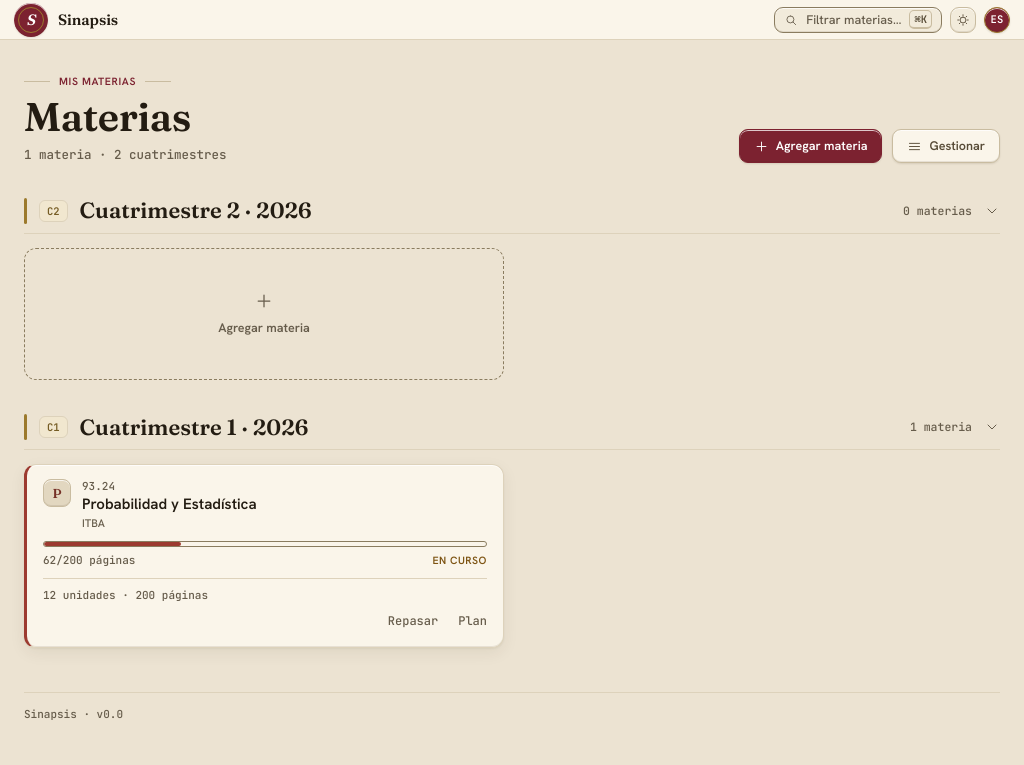
Scenario: <LandingPage/> · el borrador de gestión (N0-38) › salir con cambios pide confirmación y «Seguir editando» conserva el borrador
Expected: the element "Cuatrimestre 2 · 2026" is shown, [24,189,1000,380]
Click the button "Gestionar".
click(946, 146)  # box [892,129,1000,163]
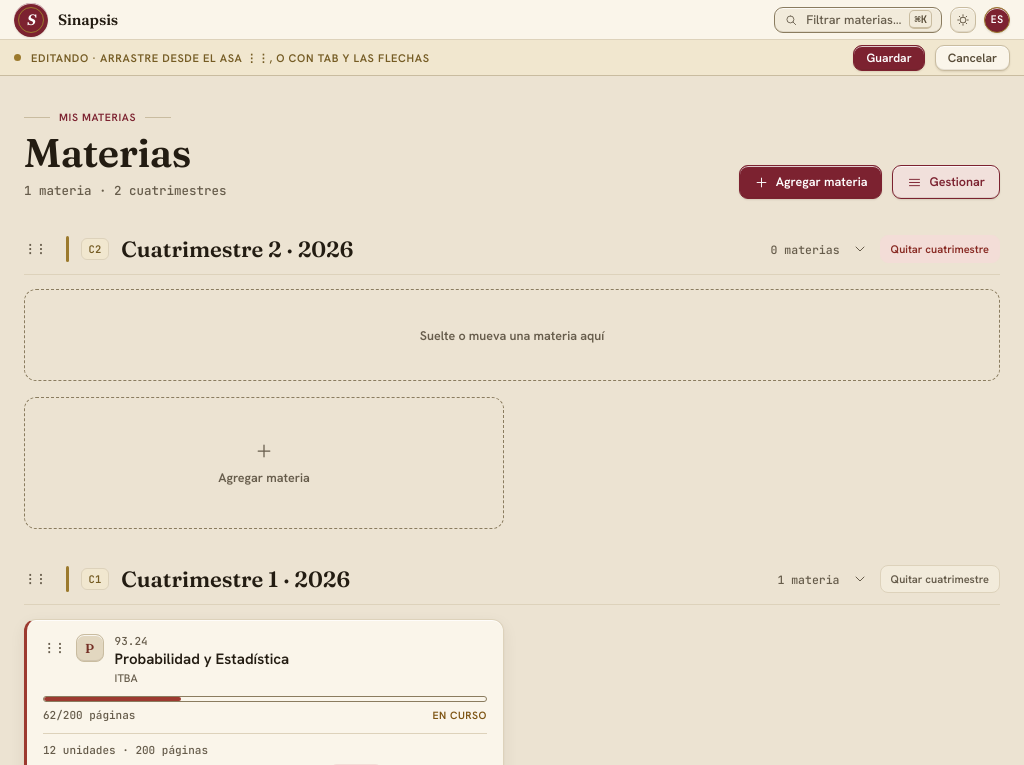
Click the 1st button "Quitar cuatrimestre".
click(940, 249)  # box [880,235,1000,263]
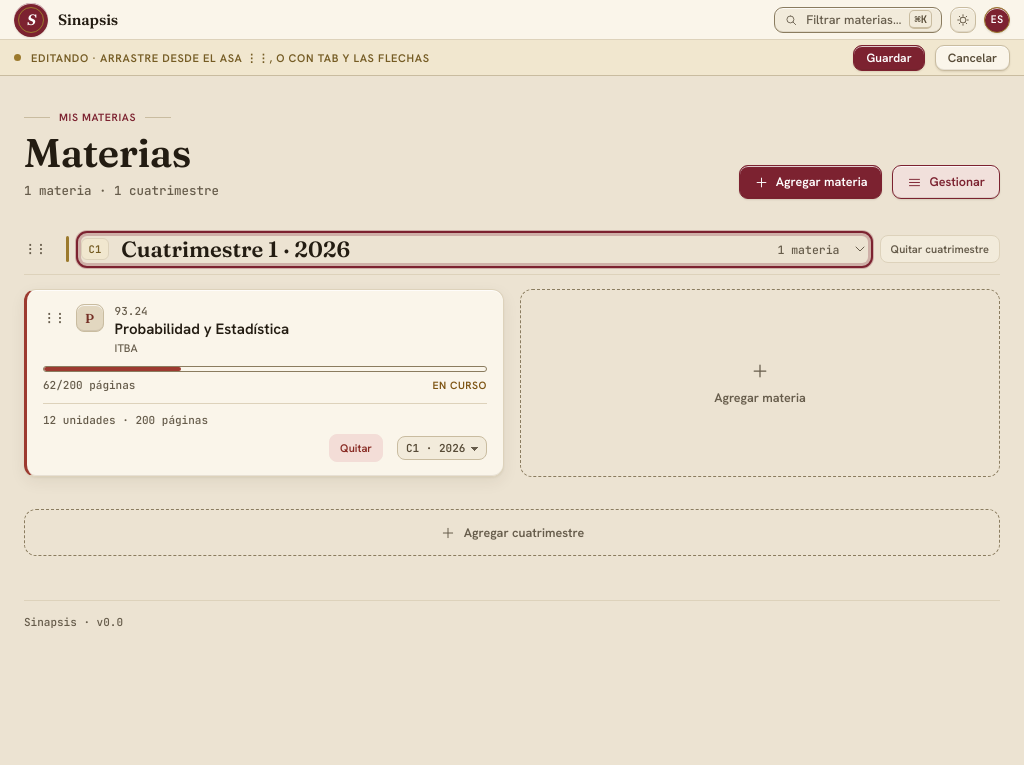
Result: the button "Cuatrimestre 2 · 2026" is gone
Click the button "Gestionar".
click(946, 182)  # box [892,165,1000,199]
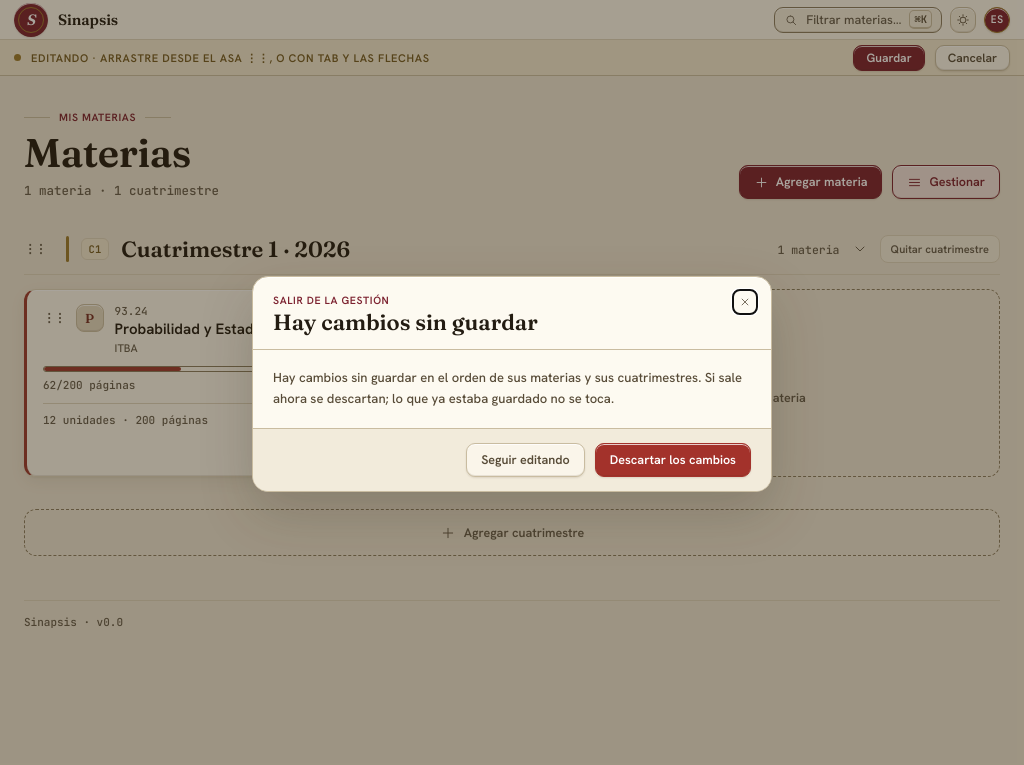
Result: the heading "Hay cambios sin guardar" is shown at [273,308,538,336]
Click the button "Seguir editando".
click(526, 460)  # box [466,443,585,477]
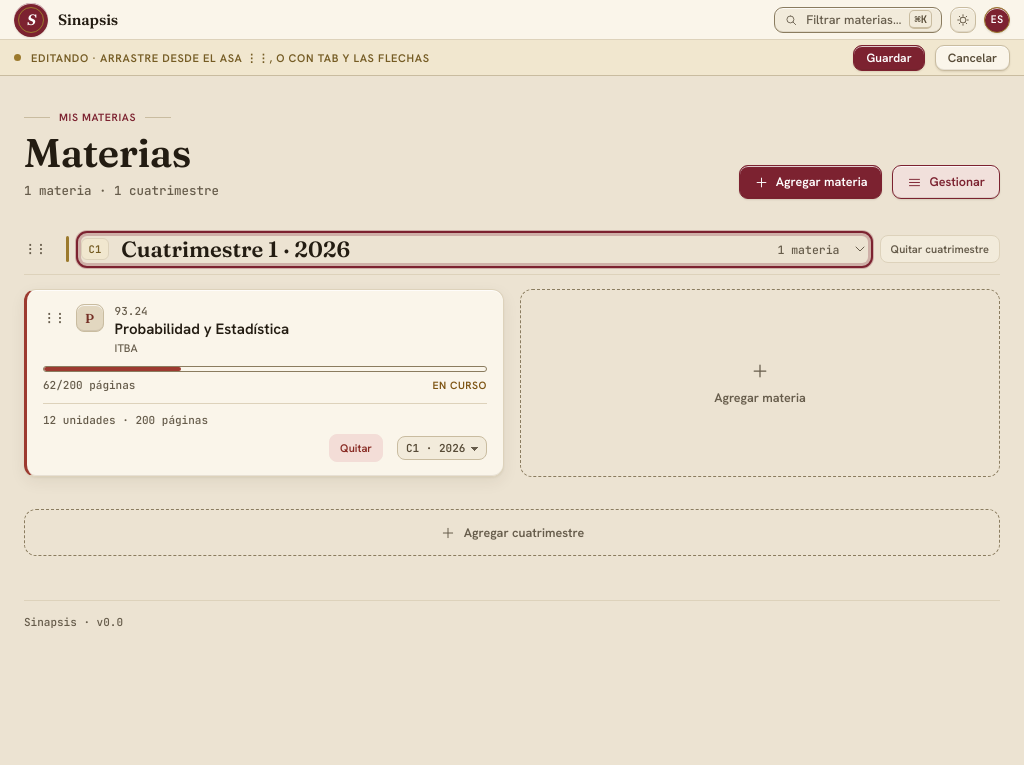
Result: the button "Guardar" is shown at [853,44,925,70]
Result: the dialog is gone
